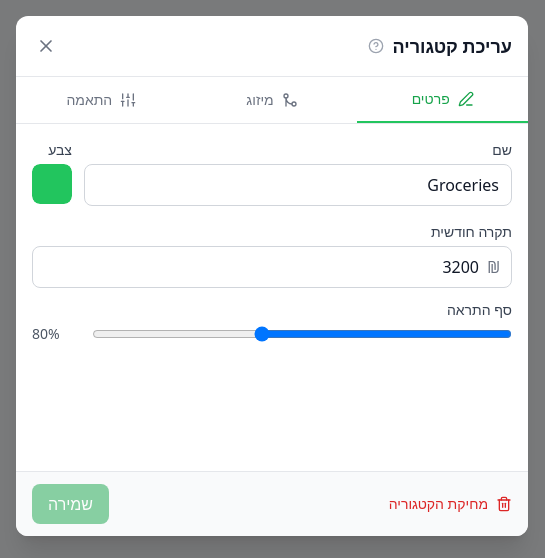
Scenario: categories in Hebrew › names the edit window tabs as the guide does, on every tab
The image size is (545, 558).
Expected: the heading "עריכת קטגוריה" is shown, [392,32,512,60]
Click the button "פרטים": click(443, 100) [357,77,528,123]
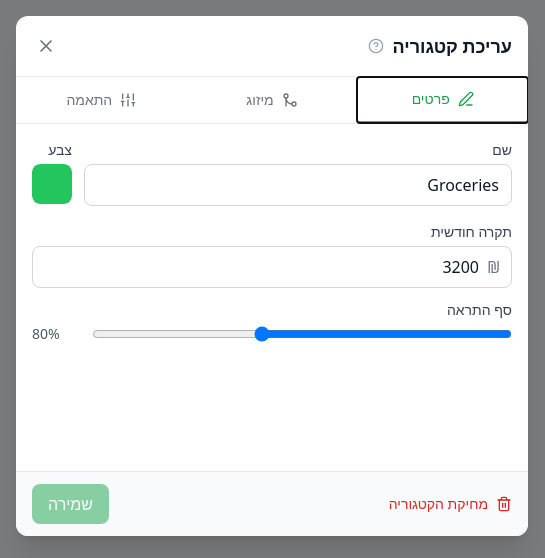
Click the button "מיזוג": click(272, 100) [187,77,357,123]
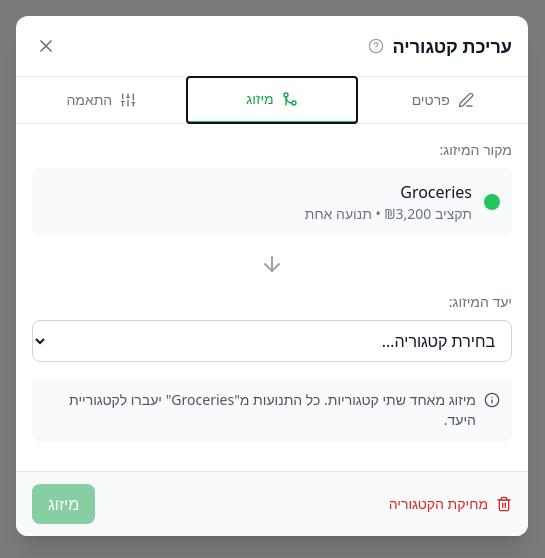
Click the button "התאמה": click(101, 100) [16,77,187,123]
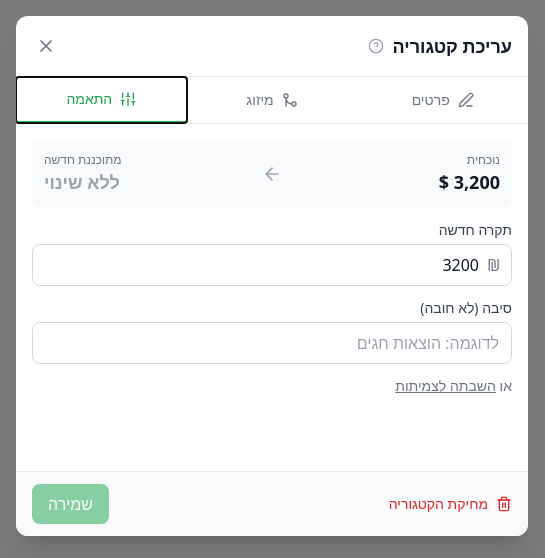
Result: the text "תקרה חדשה" is shown at [439,220,512,239]
